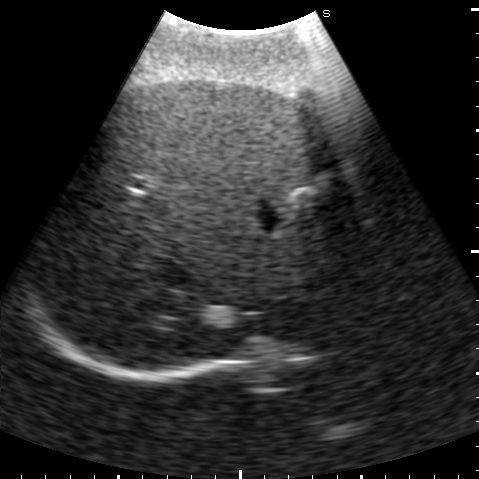S5: (113, 83, 334, 190)
S7: (30, 159, 167, 310)
S8: (104, 165, 378, 369)
Tumor: (204, 304, 235, 327), (288, 184, 319, 200)
